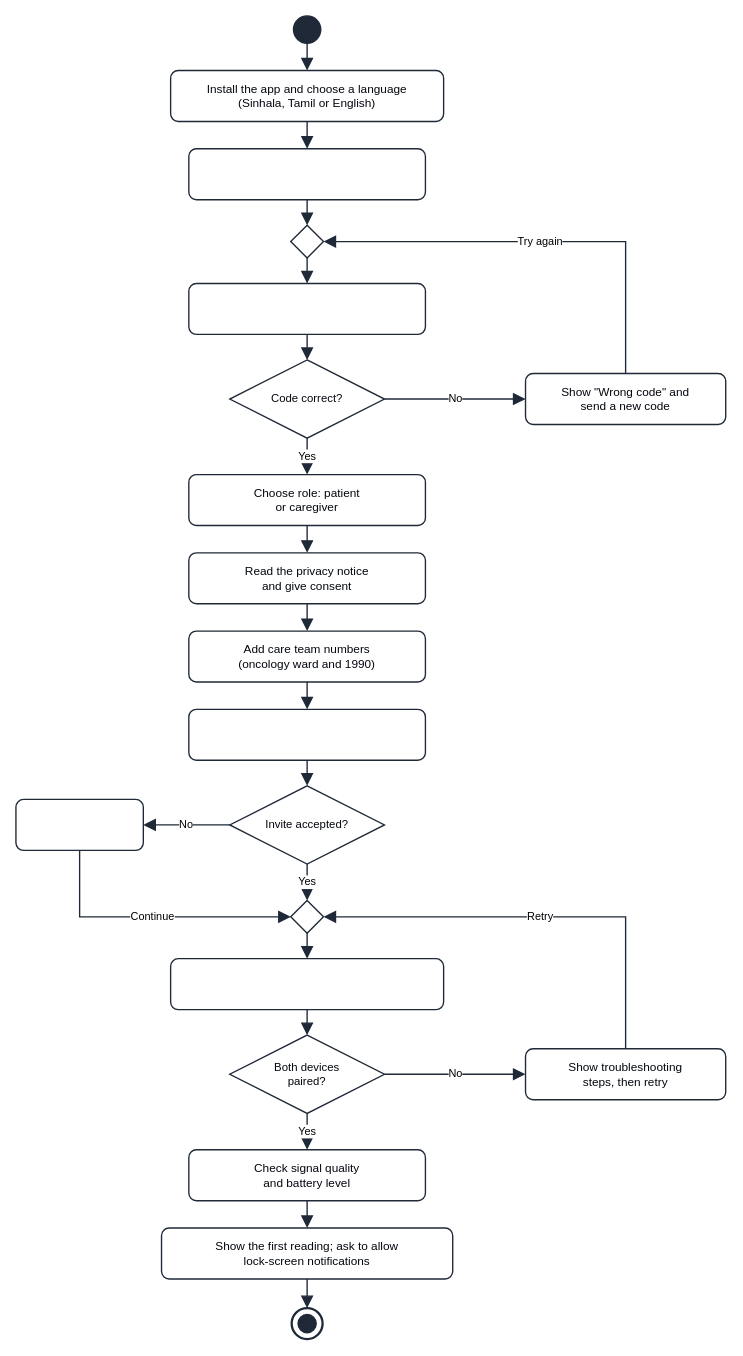
Some shapes in this 743 by 1356 pixel diagram are drawn without their labels. The centre of each missing label's shape, as x and y in pixels:
"Enter the sign-in code" goes at (307,308).
"Link the caregiver and patient accounts" goes at (307,734).
"Pair the chest patch and fingertip clip over Bluetooth LE" goes at (307,984).
"Register with a mobile number" goes at (307,174).
"Show the invite as pending" goes at (79,824).
